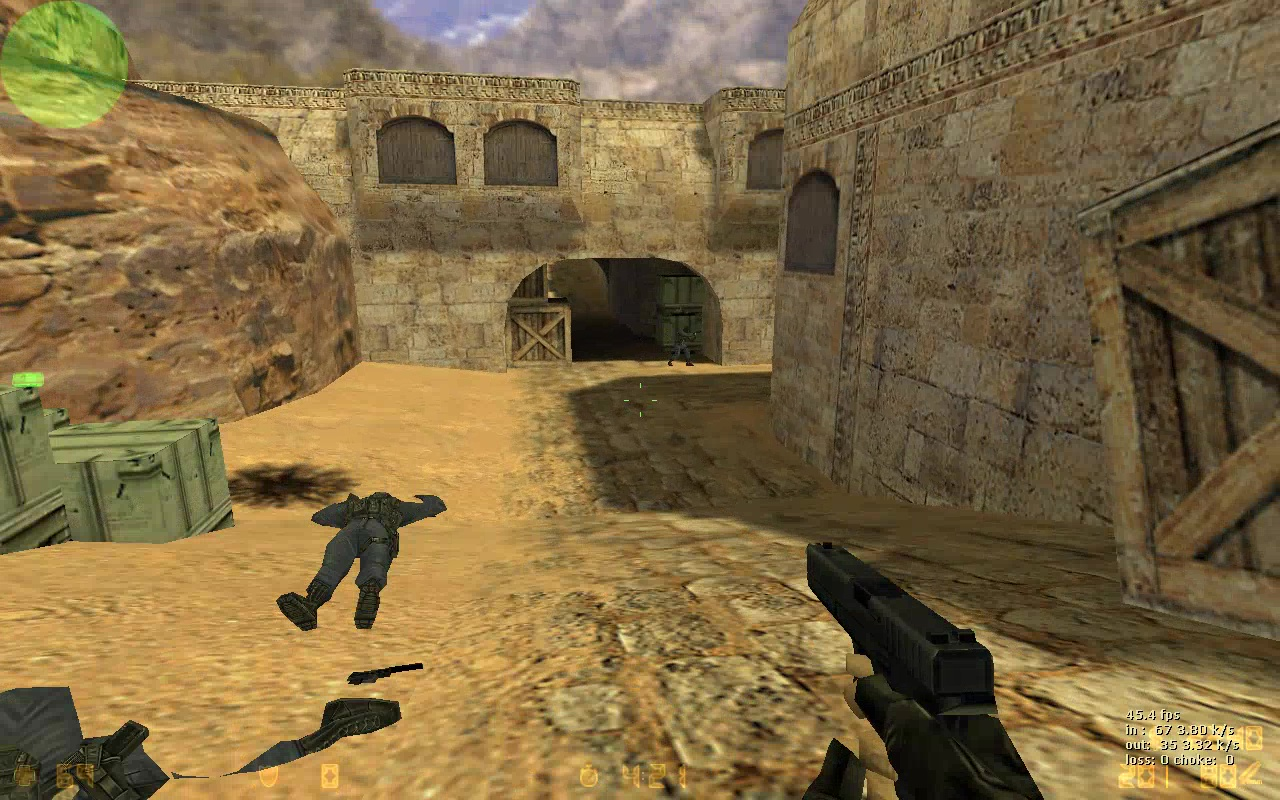ct: (667, 328, 702, 368)
dead: (271, 479, 451, 628)
